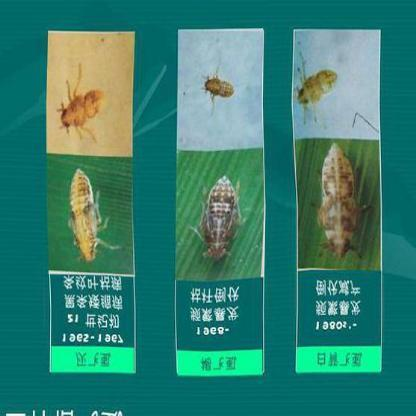brown-planthopper: (319, 140, 365, 260), (64, 166, 102, 264), (200, 174, 240, 263)
